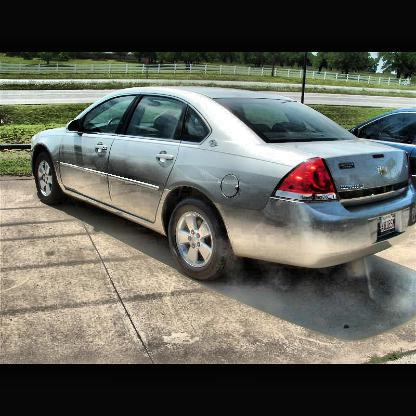Chevrolet Impala Sedan 2007: (30, 85, 416, 284)
